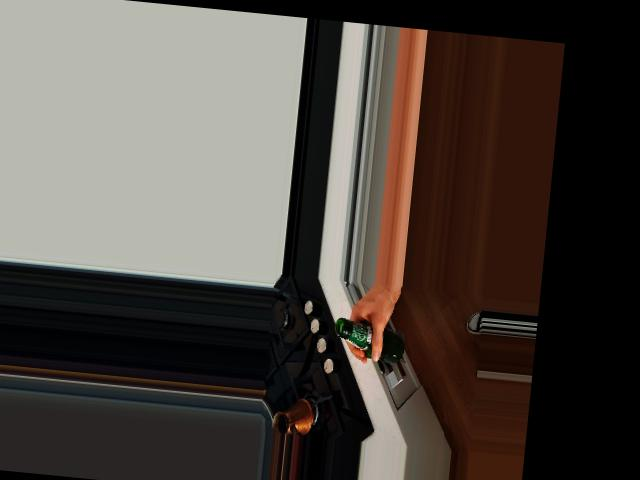beer: (332, 316, 407, 363)
